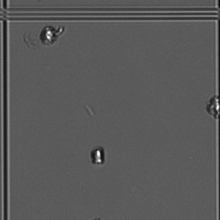Living Cell: (37, 22, 67, 52), (87, 144, 112, 169)
